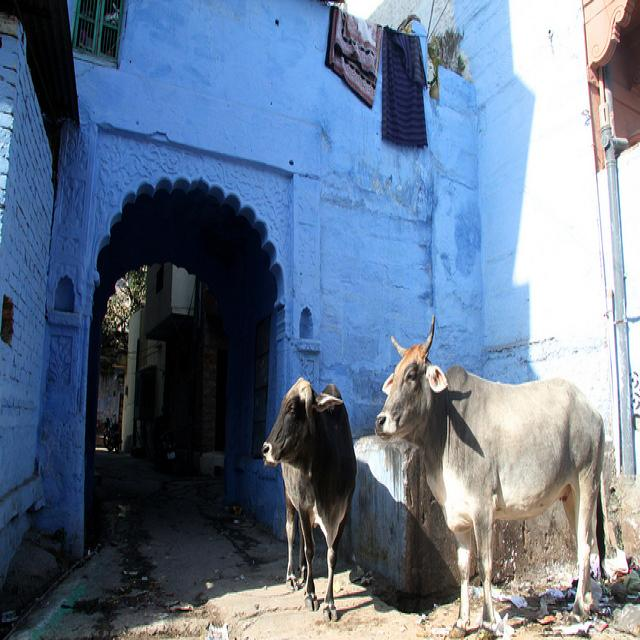motor: (103, 416, 122, 453)
